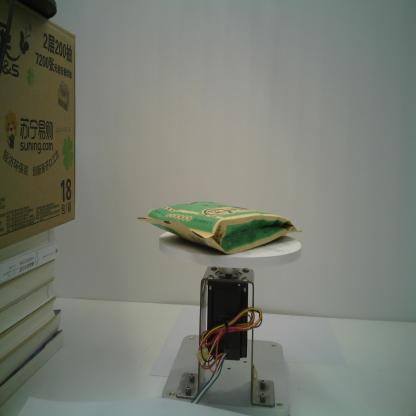Dried Food: (133, 196, 305, 257)
